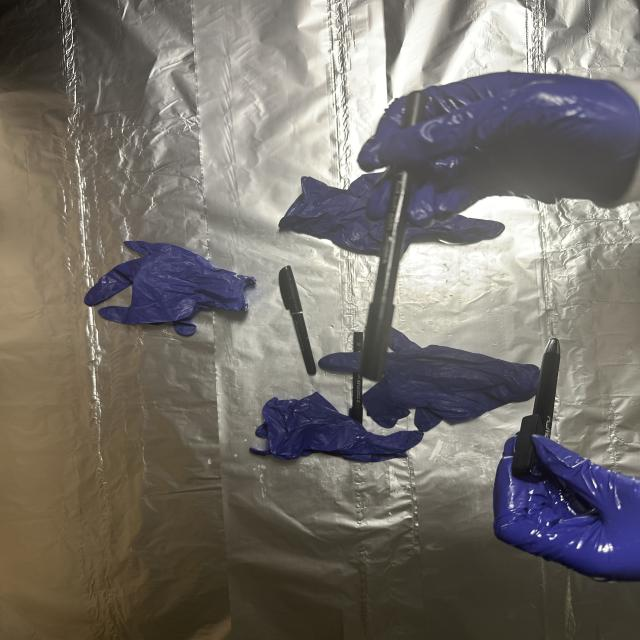gloves_contaminated: (358, 72, 640, 226), (494, 438, 640, 578)
